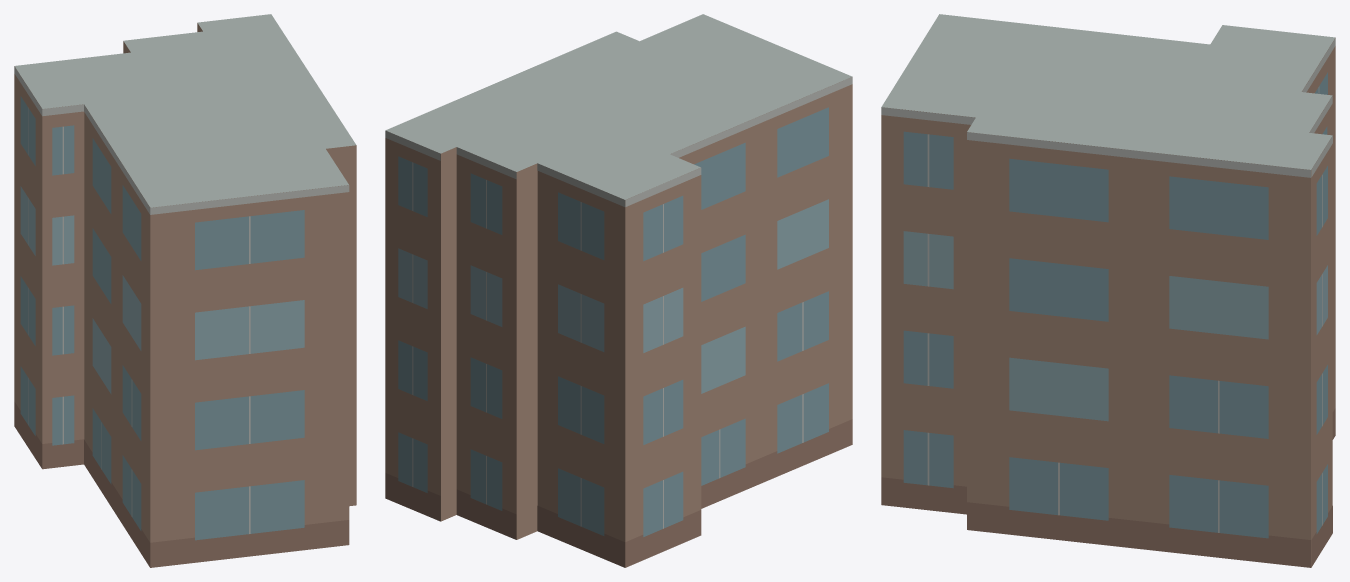
The model's file is survey-upis-32877823.glb.
3 renders of one model, left to right at view 1: azimuth 30°, elevation 25°; view 2: azimuth 150°, elevation 25°; view 3: azimuth 270°, elevation 25°, orthographic. The views are drawn at different scales.
Visible parts, largest first — view 1: survey-upis-32877823.tmp; view 2: survey-upis-32877823.tmp; view 3: survey-upis-32877823.tmp.
Boxes of the visible parts, x1,y1,x2,y2 form: survey-upis-32877823.tmp: (14,14,356,567); survey-upis-32877823.tmp: (385,14,852,567); survey-upis-32877823.tmp: (881,14,1335,567).
Size of the model in its own units: 10.26 by 12.2 by 12.63.
